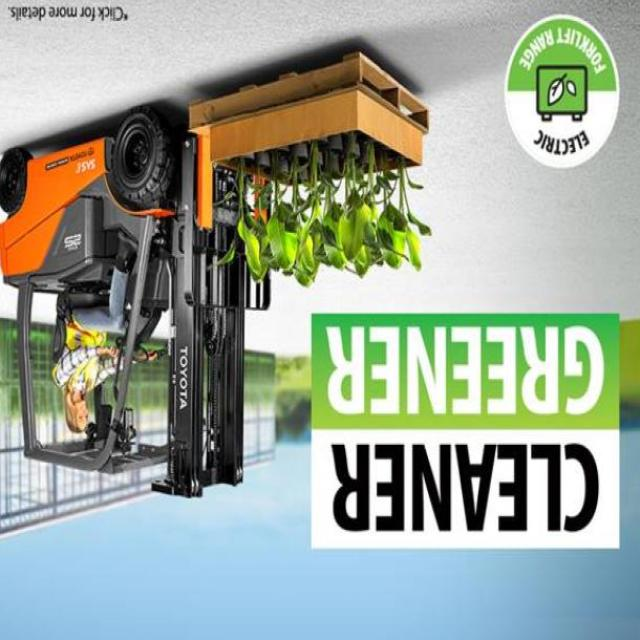driver: (48, 230, 130, 438)
forklift: (0, 91, 253, 528)
